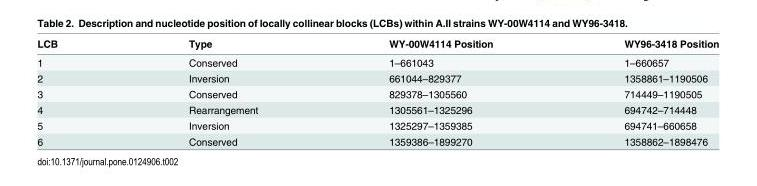table: (36, 37, 718, 146)
table column: (322, 37, 557, 146), (122, 37, 322, 146), (557, 37, 718, 146), (36, 37, 122, 146)
table column header: (36, 37, 718, 52)
table row: (36, 52, 718, 70), (36, 85, 718, 101), (36, 101, 718, 117), (36, 117, 718, 133), (36, 37, 718, 52), (36, 70, 718, 85), (36, 133, 718, 146)
